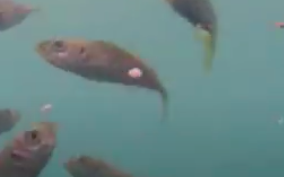smallfish: (32, 26, 181, 128)
